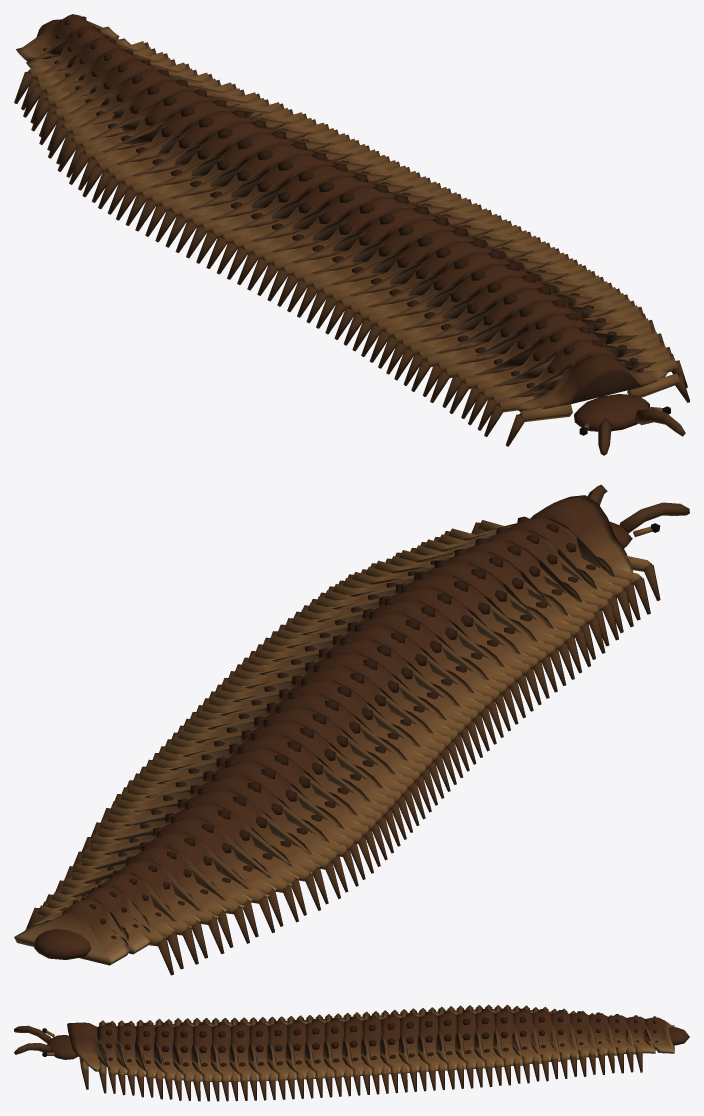
The model's file is ArthropleuraArmata.fbx.
3 views of the same model, one above another, from view 1: azimuth 30°, elevation 25°; view 2: azimuth 150°, elevation 25°; view 3: azimuth 270°, elevation 25° (orthographic). The views are drawn at different scales.
Parts seen in each view (by area): view 1: ArthropleuraArmata; view 2: ArthropleuraArmata; view 3: ArthropleuraArmata.
Part boxes in pixels (x1,y1,x2,y2): ArthropleuraArmata: (14, 14, 689, 455); ArthropleuraArmata: (14, 484, 689, 975); ArthropleuraArmata: (14, 1004, 689, 1101).
Size of the model in its own units: 0.6209 by 0.1456 by 2.16.
